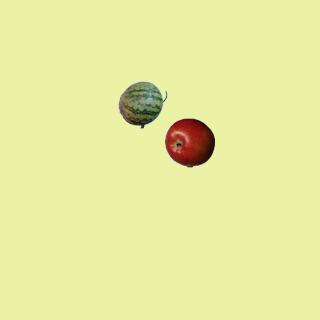Apple Braeburn: (164, 117, 214, 167)
Watermelon: (117, 79, 167, 129)
